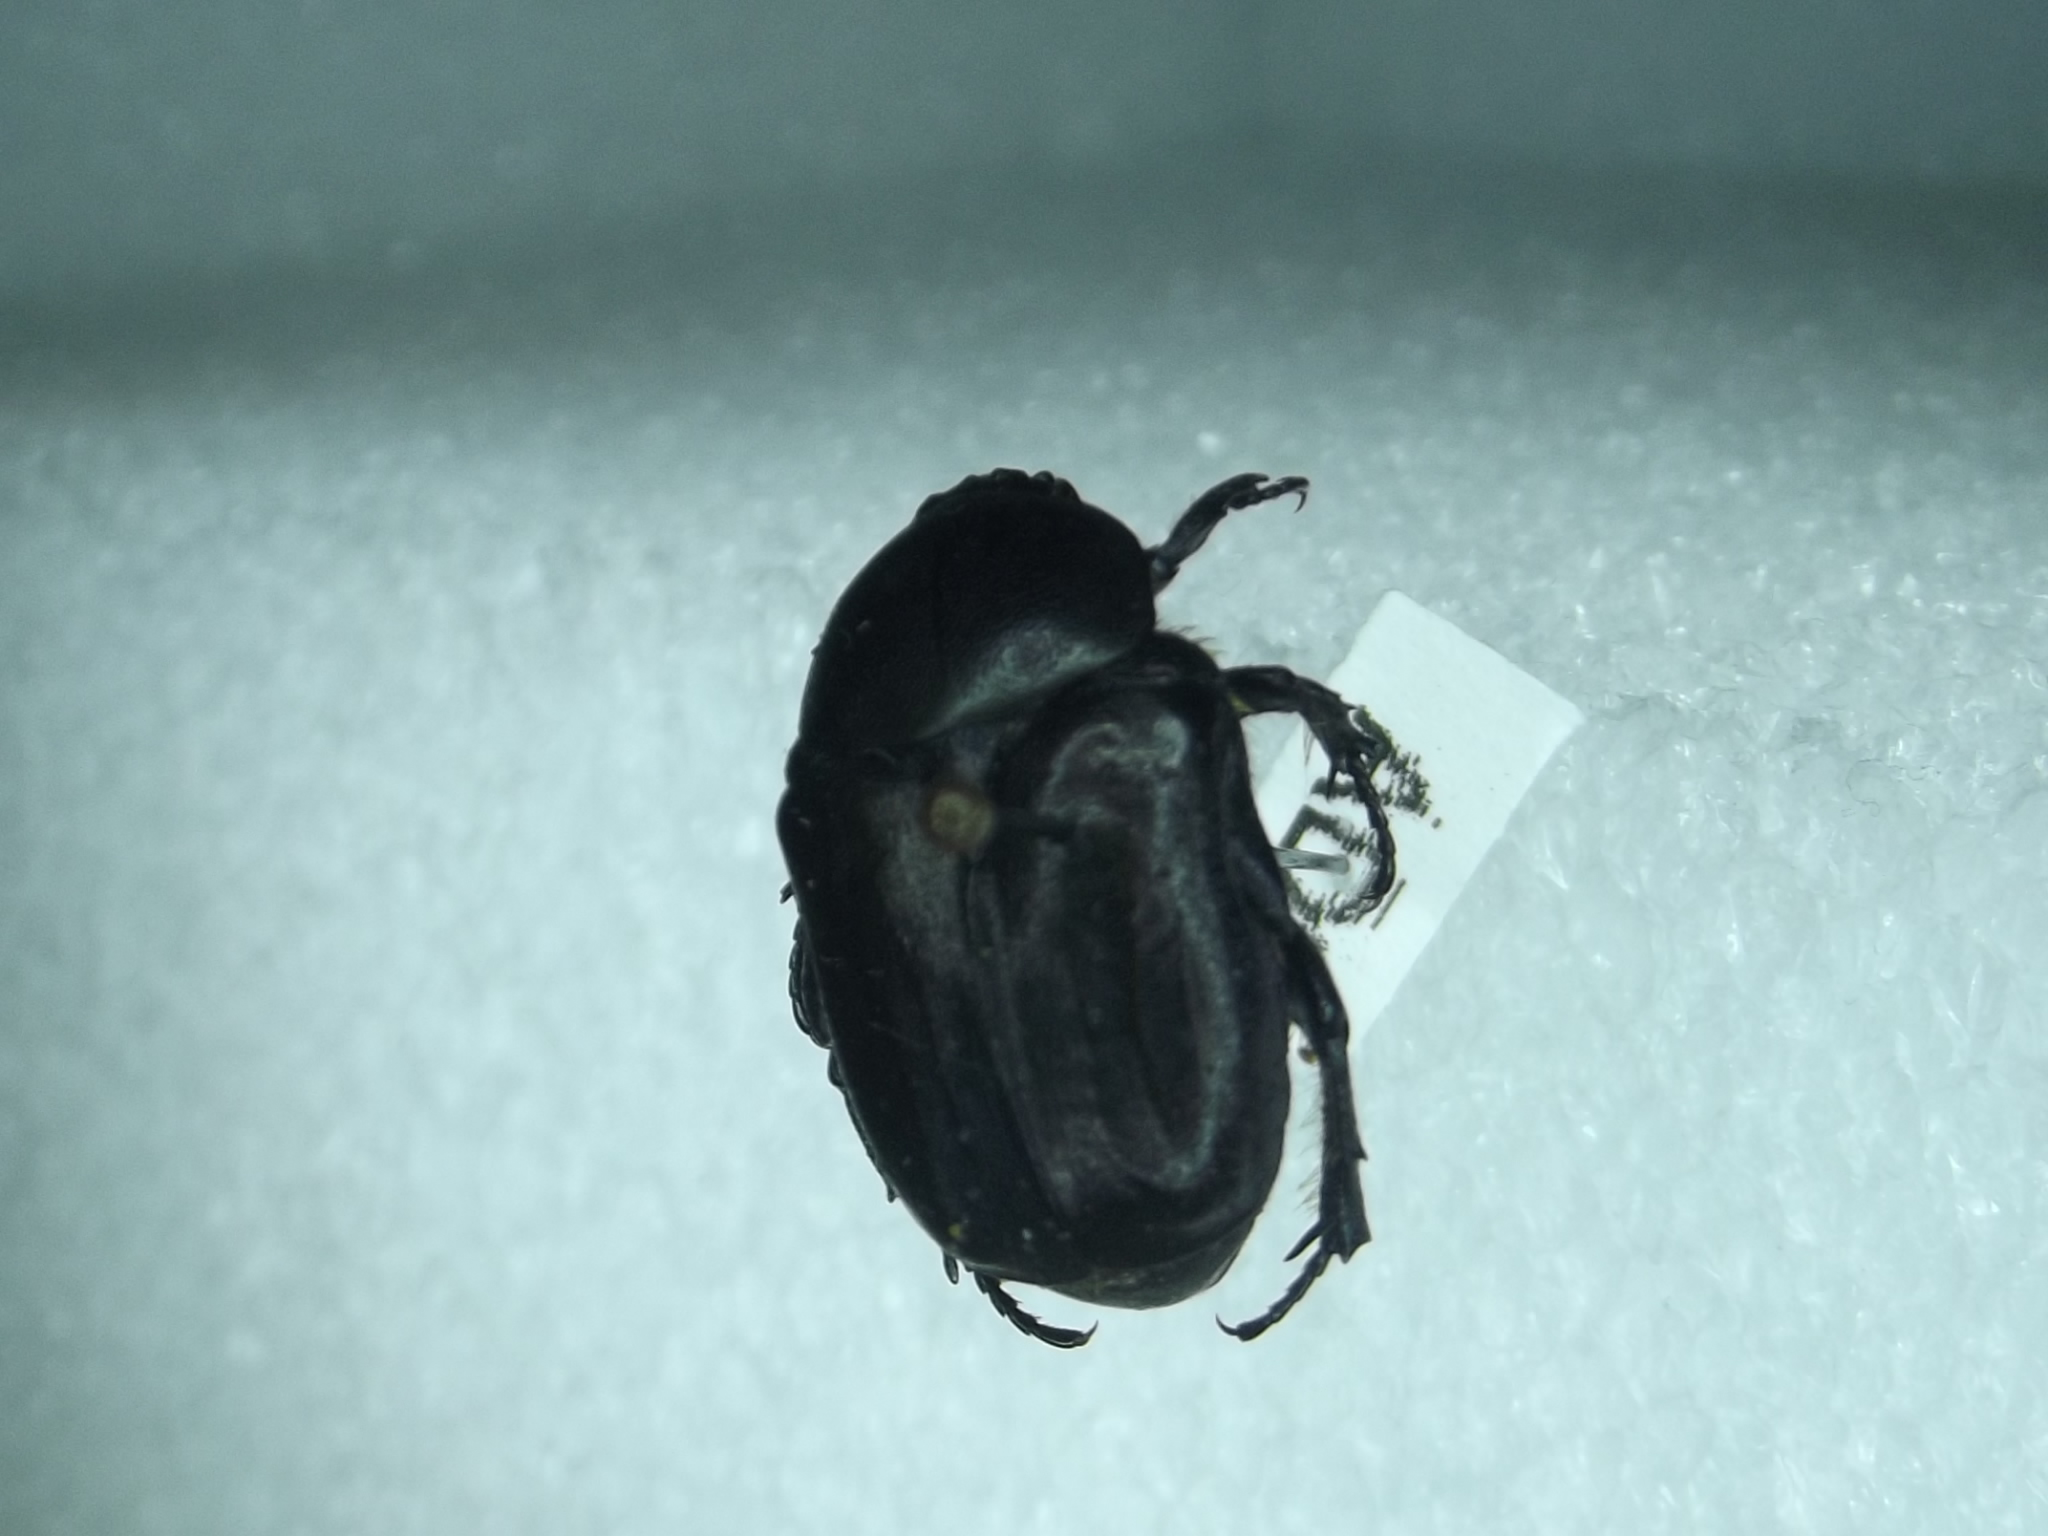Protaetia_vidua: (747, 407, 1448, 1359)
